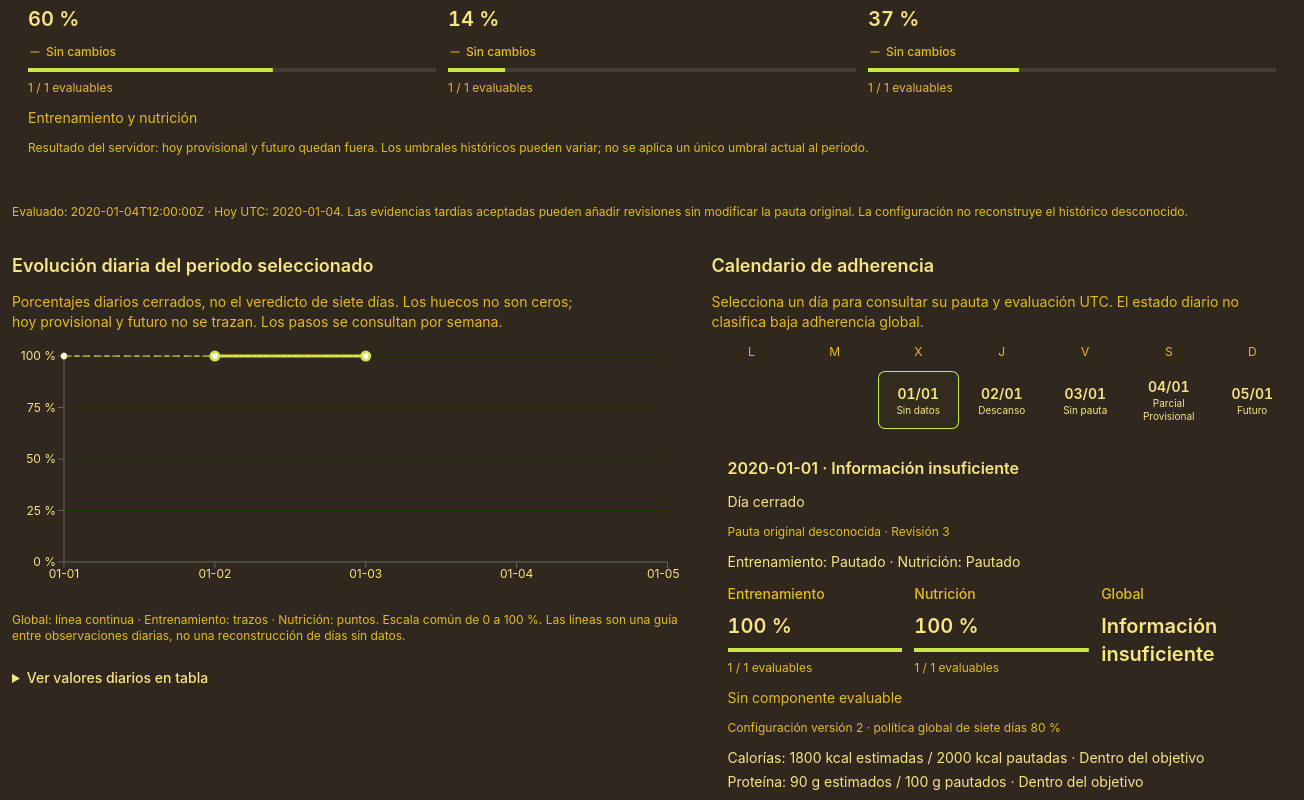
Test: Adherencia canónica en el detalle › diferencia insuficiente, provisional, futuro, descanso y sin asignación sin convertirlos en cero
(page scrolled)
Check: the text "Descanso" is shown, box [978,404,1025,416]
Check: the button with aria-label "2020-01-03 · Sin asignación" is shown, box [1046,372,1125,428]
Step 1. Click the button "04/01 Parcial Provisional" → (1169, 400), box [1129,372,1208,428]
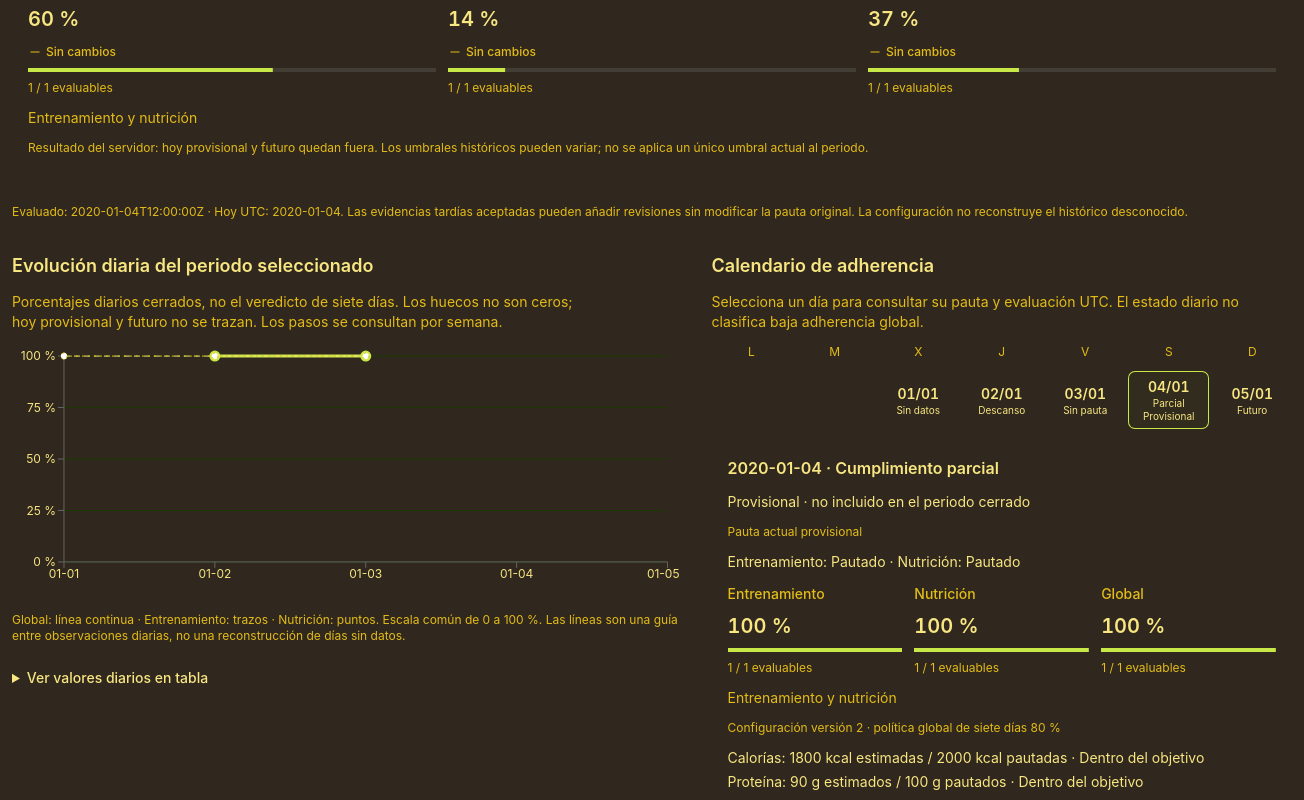
Check: the text "Provisional · no incluido en el periodo cerrado" is shown, box [728,493,1030,510]
Step 2. Click the button "05/01 Futuro" → (1252, 400), box [1212,372,1292,428]
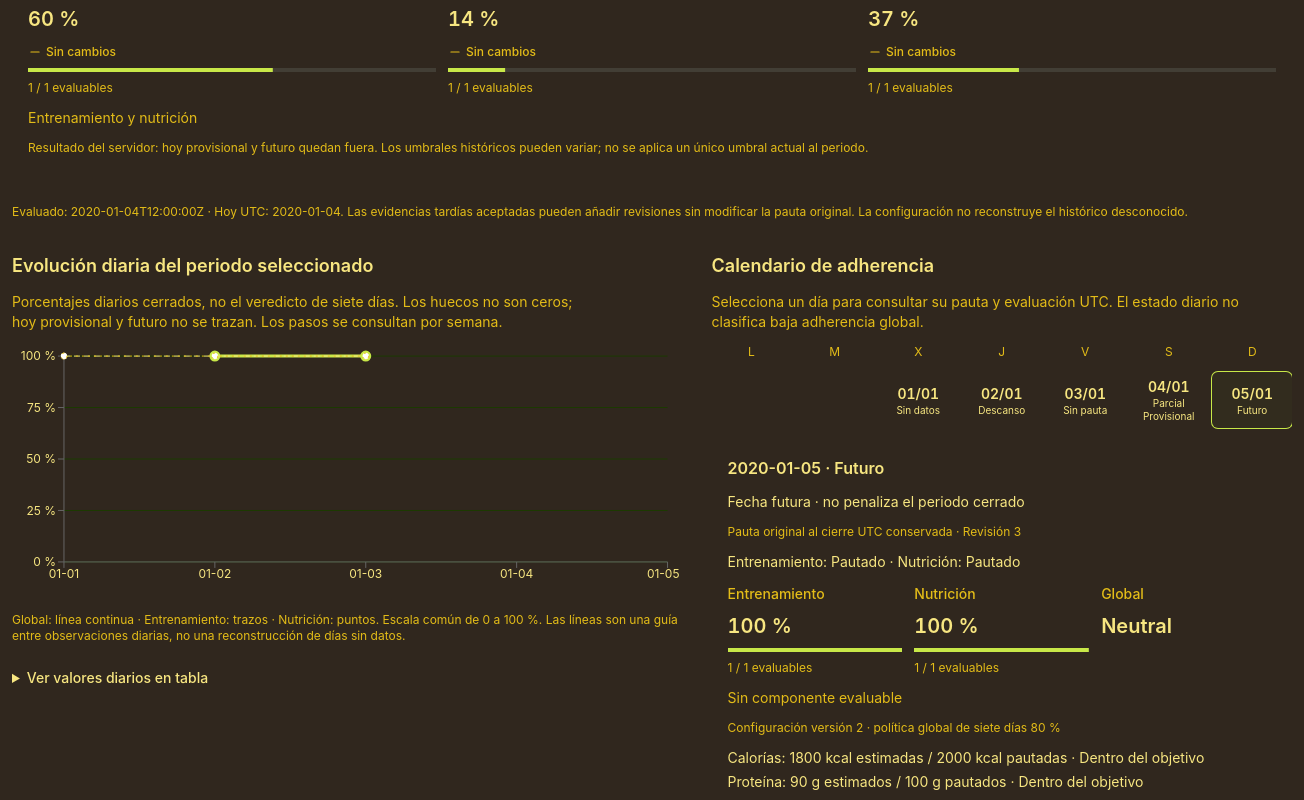
Check: the text "Fecha futura · no penaliza el periodo cerrado" is shown, box [728,493,1025,510]
